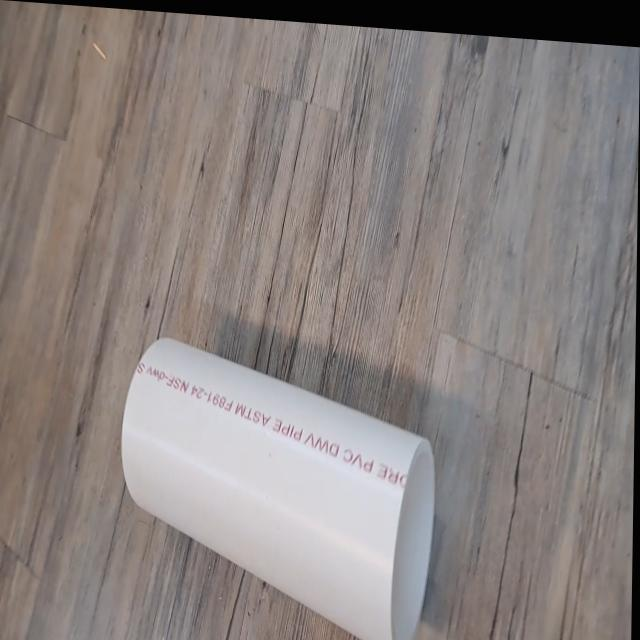CORAL: (116, 317, 440, 640)
